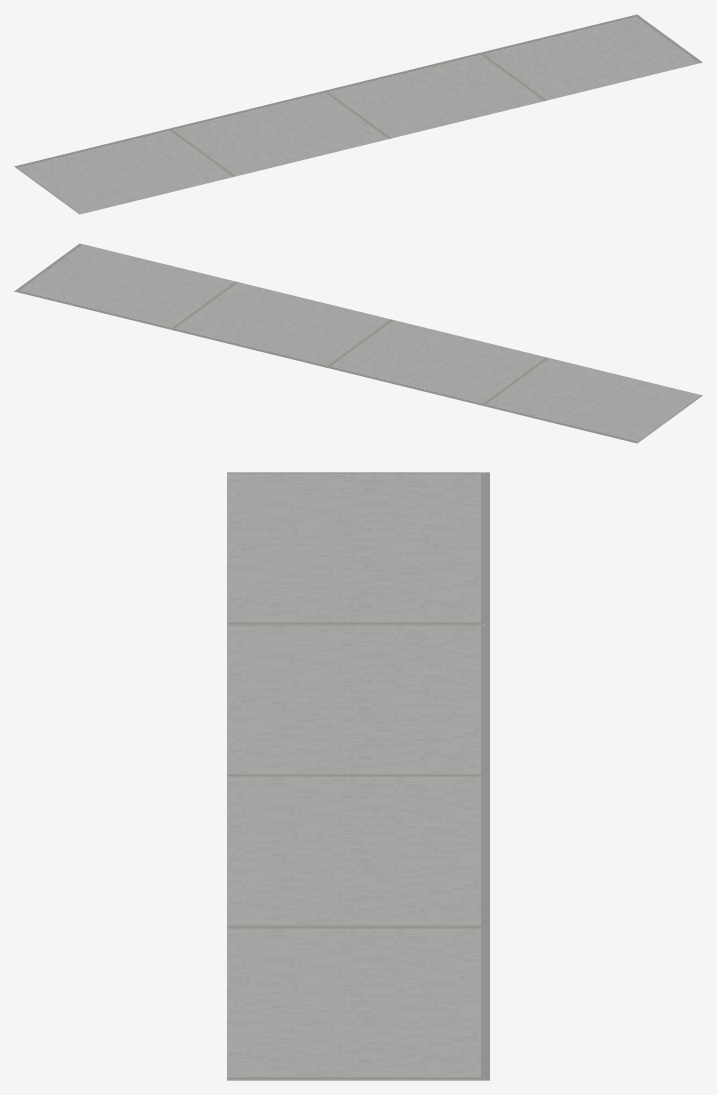
Rendered from kd_stage_135d18_4_131_bounded_piece_5.glb.
3 views of the same model, one above another, from view 1: azimuth 30°, elevation 25°; view 2: azimuth 150°, elevation 25°; view 3: azimuth 270°, elevation 25° (orthographic). The views are drawn at different scales.
Visible parts, largest first — view 1: kd_stage_135d18_4_131_bounded_piece_5; view 2: kd_stage_135d18_4_131_bounded_piece_5; view 3: kd_stage_135d18_4_131_bounded_piece_5.
Part boxes in pixels (left/top/right/bottom): kd_stage_135d18_4_131_bounded_piece_5: left=14, top=14, right=702, bottom=214; kd_stage_135d18_4_131_bounded_piece_5: left=14, top=243, right=702, bottom=443; kd_stage_135d18_4_131_bounded_piece_5: left=227, top=472, right=489, bottom=1080.
Size of the model in its own units: 4.53 by 5.96e-08 by 0.828.
Materials: 1 (1 with a texture image).
